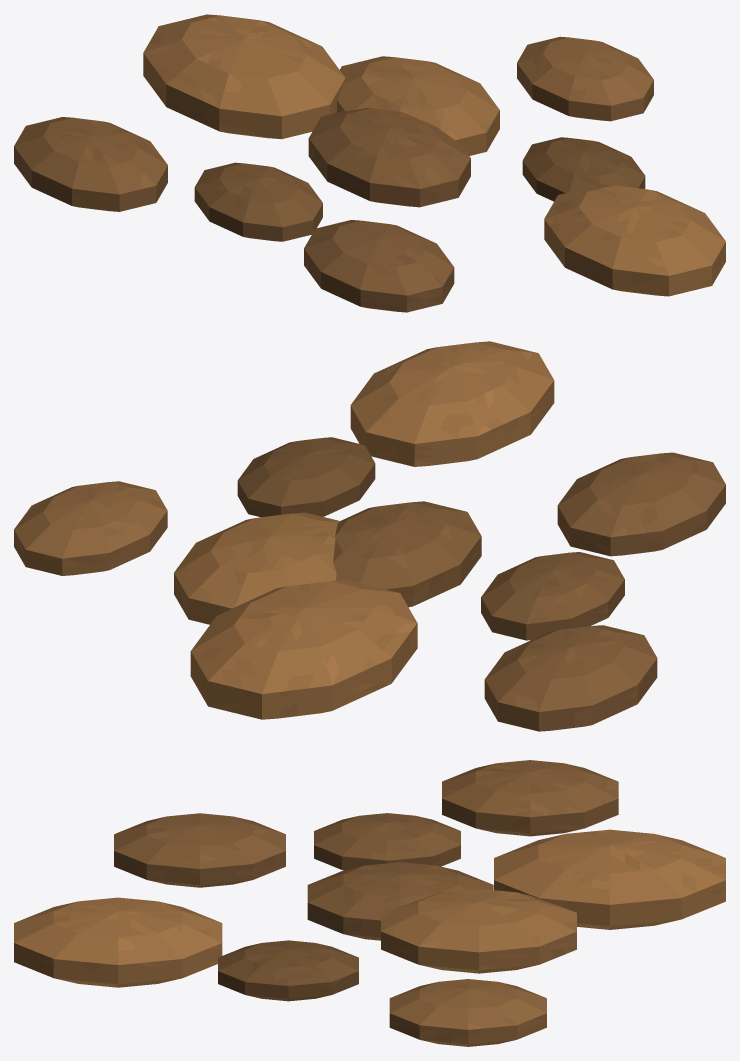
Rendered from seed_artichoke.glb.
3 renders of one model, top to bottom at view 1: azimuth 30°, elevation 25°; view 2: azimuth 150°, elevation 25°; view 3: azimuth 270°, elevation 25°, orthographic. The views are drawn at different scales.
Parts seen in each view (by area): view 1: block_grain 4, block_grain 8, block_grain 0, block_grain 7, block_grain 5, block_grain 1, block_grain 6, block_grain 2, block_grain 3; view 2: block_grain 4, block_grain 8, block_grain 7, block_grain 5, block_grain 1, block_grain 0, block_grain 6, block_grain 2, block_grain 3; view 3: block_grain 4, block_grain 8, block_grain 1, block_grain 7, block_grain 5, block_grain 6, block_grain 0, block_grain 3, block_grain 2.
Boxes of the visible parts, left/top/right/bottom form: block_grain 4: left=143, top=14, right=345, bottom=139; block_grain 8: left=544, top=184, right=725, bottom=296; block_grain 0: left=308, top=108, right=470, bottom=207; block_grain 7: left=14, top=117, right=167, bottom=211; block_grain 5: left=304, top=220, right=454, bottom=312; block_grain 1: left=337, top=56, right=499, bottom=155; block_grain 6: left=517, top=36, right=653, bottom=121; block_grain 2: left=194, top=162, right=322, bottom=241; block_grain 3: left=522, top=137, right=645, bottom=201; block_grain 4: left=190, top=580, right=417, bottom=719; block_grain 8: left=350, top=341, right=554, bottom=466; block_grain 7: left=484, top=625, right=657, bottom=731; block_grain 5: left=557, top=452, right=725, bottom=556; block_grain 1: left=174, top=512, right=340, bottom=624; block_grain 0: left=333, top=501, right=481, bottom=607; block_grain 6: left=14, top=481, right=167, bottom=575; block_grain 2: left=481, top=552, right=624, bottom=640; block_grain 3: left=237, top=437, right=375, bottom=517; block_grain 4: left=494, top=829, right=725, bottom=929; block_grain 8: left=14, top=897, right=222, bottom=987; block_grain 1: left=381, top=888, right=576, bottom=973; block_grain 7: left=442, top=760, right=618, bottom=836; block_grain 5: left=114, top=813, right=285, bottom=887; block_grain 6: left=389, top=979, right=546, bottom=1046; block_grain 0: left=307, top=862, right=493, bottom=940; block_grain 3: left=218, top=940, right=358, bottom=1001; block_grain 2: left=314, top=813, right=460, bottom=870.
Size of the model in its own units: 0.0193 by 0.00237 by 0.022.
Materials: 1 (1 with a texture image).
